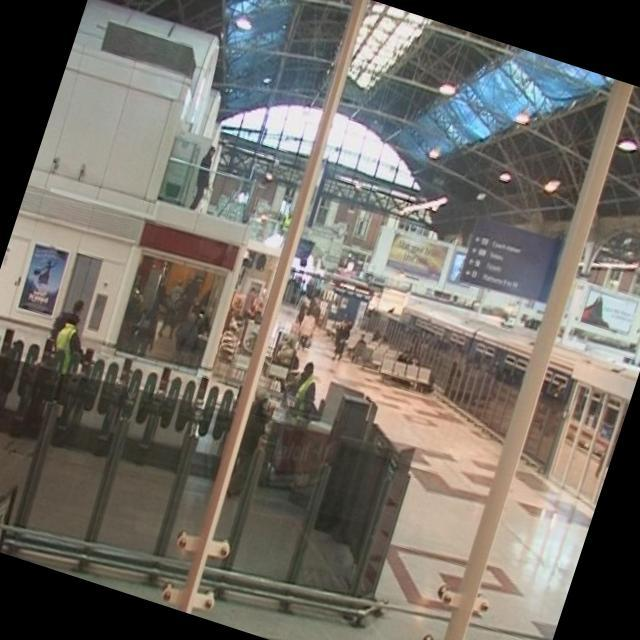person: (41, 305, 99, 367), (277, 353, 333, 413), (290, 302, 326, 352)
